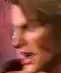kevin: (5, 2, 54, 70)
